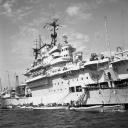Portanaves: (4, 9, 127, 110)
